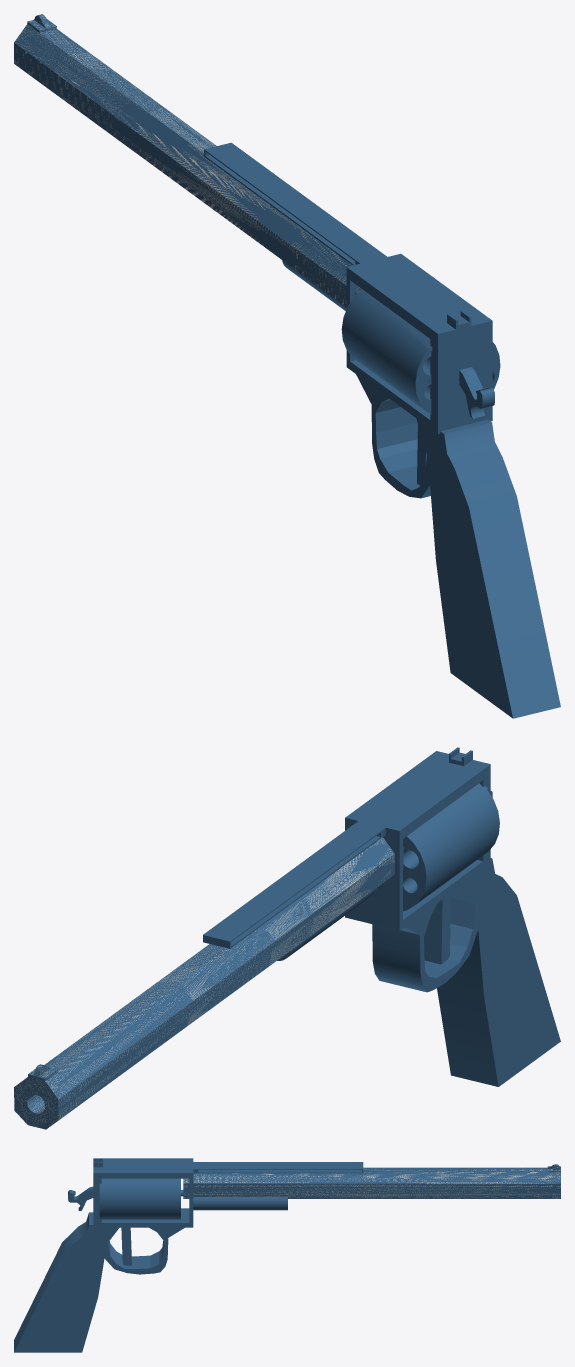
The picture shows the model from 3 angles, top to bottom: view 1: azimuth 30°, elevation 25°; view 2: azimuth 150°, elevation 25°; view 3: azimuth 270°, elevation 25°; orthographic projection. The views are drawn at different scales.
Visible parts, largest first — view 1: mesh47_mesh47-geometry, mesh1_mesh1-geometry, mesh15_mesh15-geometry, mesh29_mesh29-geometry; view 2: mesh47_mesh47-geometry, mesh15_mesh15-geometry, mesh1_mesh1-geometry, mesh29_mesh29-geometry; view 3: mesh15_mesh15-geometry, mesh47_mesh47-geometry, mesh1_mesh1-geometry, mesh29_mesh29-geometry.
Boxes of the visible parts, bbox=[...] form: mesh47_mesh47-geometry: bbox=[356, 374, 560, 718]; mesh1_mesh1-geometry: bbox=[204, 142, 494, 433]; mesh15_mesh15-geometry: bbox=[14, 14, 361, 306]; mesh29_mesh29-geometry: bbox=[341, 289, 500, 414]; mesh47_mesh47-geometry: bbox=[372, 858, 560, 1086]; mesh15_mesh15-geometry: bbox=[14, 837, 403, 1129]; mesh1_mesh1-geometry: bbox=[203, 747, 492, 960]; mesh29_mesh29-geometry: bbox=[403, 783, 499, 911]; mesh15_mesh15-geometry: bbox=[183, 1164, 560, 1198]; mesh47_mesh47-geometry: bbox=[14, 1212, 184, 1352]; mesh1_mesh1-geometry: bbox=[68, 1158, 363, 1227]; mesh29_mesh29-geometry: bbox=[99, 1178, 183, 1219].
Size of the model in its own units: 0.0902 by 0.3497 by 0.9325.
